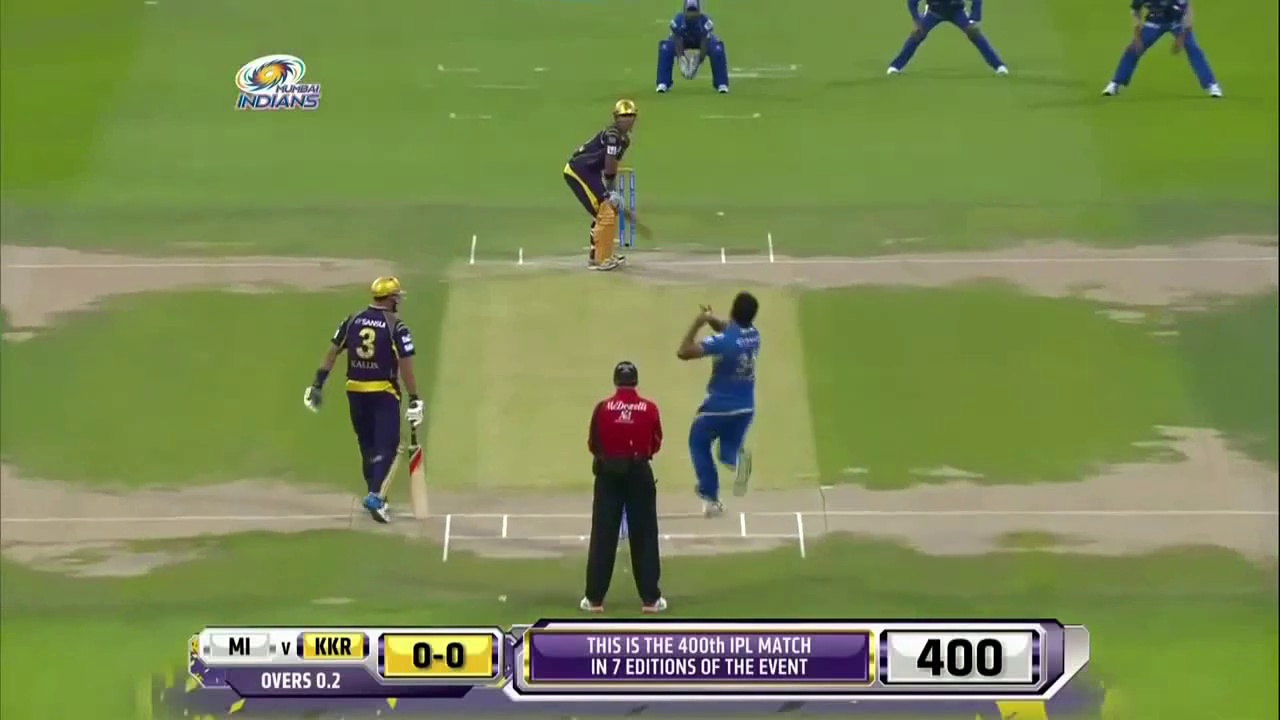bat: (407, 428, 430, 520)
